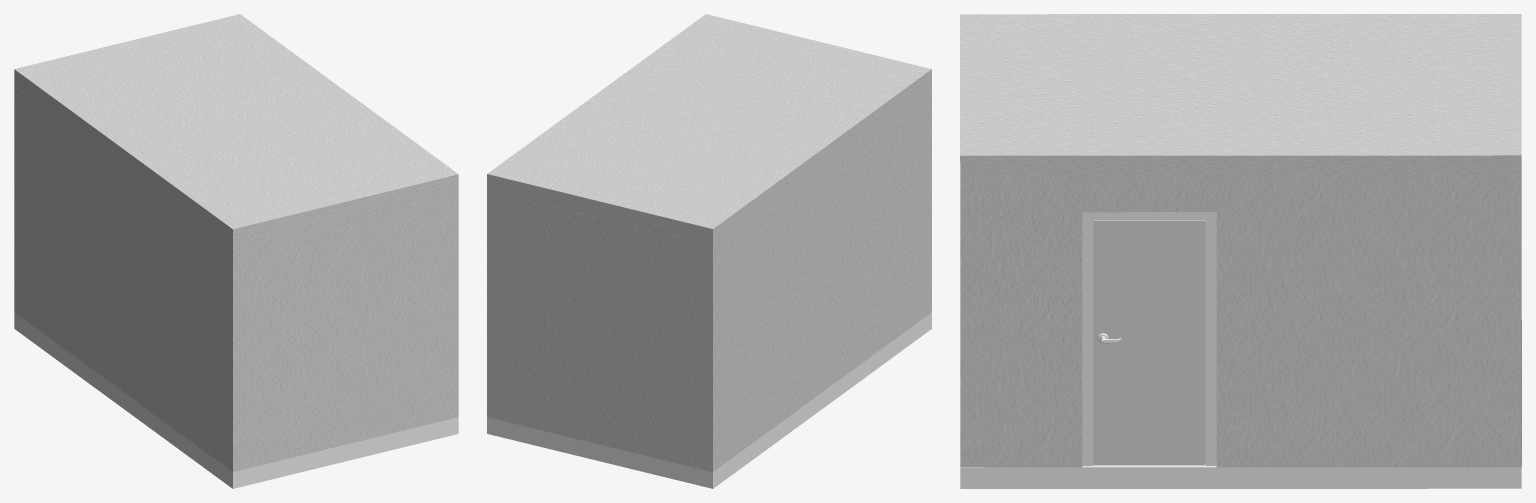
The model's file is FloorPlan421_physics.fbx.
The picture shows the model from 3 angles, left to right: view 1: azimuth 30°, elevation 25°; view 2: azimuth 150°, elevation 25°; view 3: azimuth 270°, elevation 25°; orthographic projection. The views are drawn at different scales.
Parts seen in each view (by area): view 1: FP421:Walls, FP421:Floor, FP421:Ceiling; view 2: FP421:Walls, FP421:Floor, FP421:Ceiling; view 3: FP421:Walls, FP421:Floor, FP421:Door.017, FP421:Ceiling, FP421:DoorFrame.017.
Boxes of the visible parts, x1,y1,x2,y2 form: FP421:Walls: (14,86,458,471); FP421:Floor: (14,14,458,245); FP421:Ceiling: (14,312,458,488); FP421:Walls: (487,86,931,471); FP421:Floor: (487,14,931,245); FP421:Ceiling: (487,312,931,488); FP421:Walls: (960,177,1521,467); FP421:Floor: (960,14,1521,177); FP421:Door.017: (1093,220,1205,465); FP421:Ceiling: (960,464,1521,488); FP421:DoorFrame.017: (1082,212,1216,465).
Size of the model in its own units: 253 by 274 by 418.
